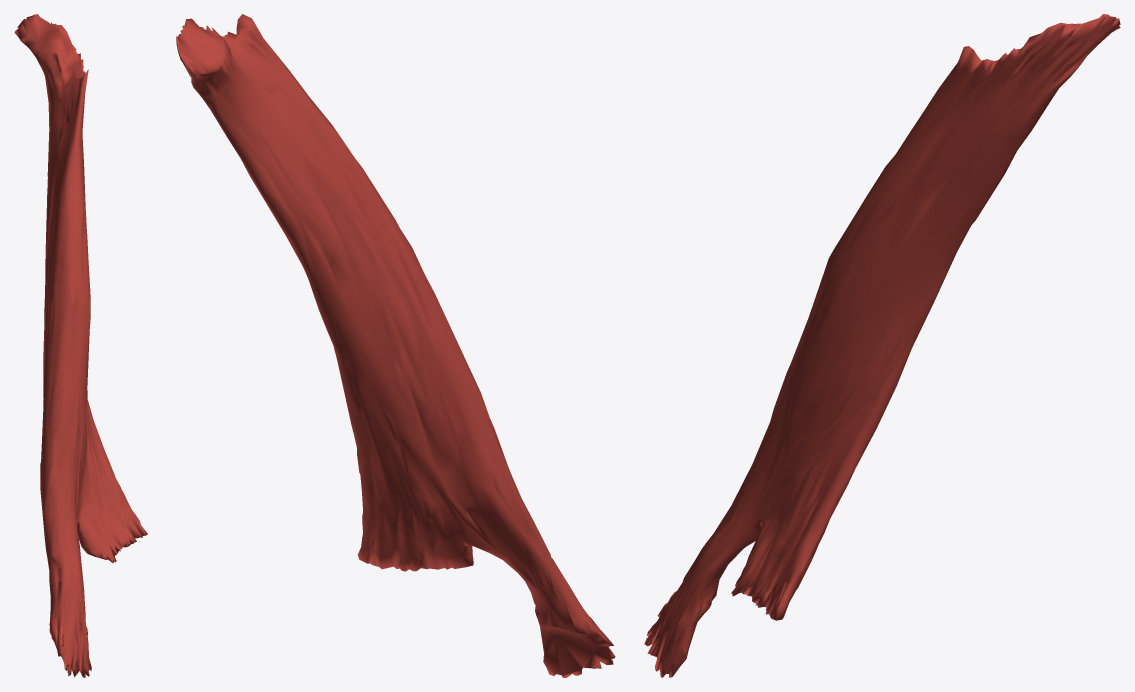
Rendered from musculos-sternocleidomastoid-muscle-l.glb.
The picture shows the model from 3 angles, left to right: view 1: azimuth 30°, elevation 25°; view 2: azimuth 150°, elevation 25°; view 3: azimuth 270°, elevation 25°; orthographic projection. The views are drawn at different scales.
Parts seen in each view (by area): view 1: Sternocleidomastoid muscle.l; view 2: Sternocleidomastoid muscle.l; view 3: Sternocleidomastoid muscle.l.
Boxes of the visible parts, x1,y1,x2,y2 form: Sternocleidomastoid muscle.l: [14, 14, 147, 677]; Sternocleidomastoid muscle.l: [176, 14, 615, 677]; Sternocleidomastoid muscle.l: [644, 14, 1120, 677].
Size of the model in its own units: 0.0578 by 0.1937 by 0.1136.
